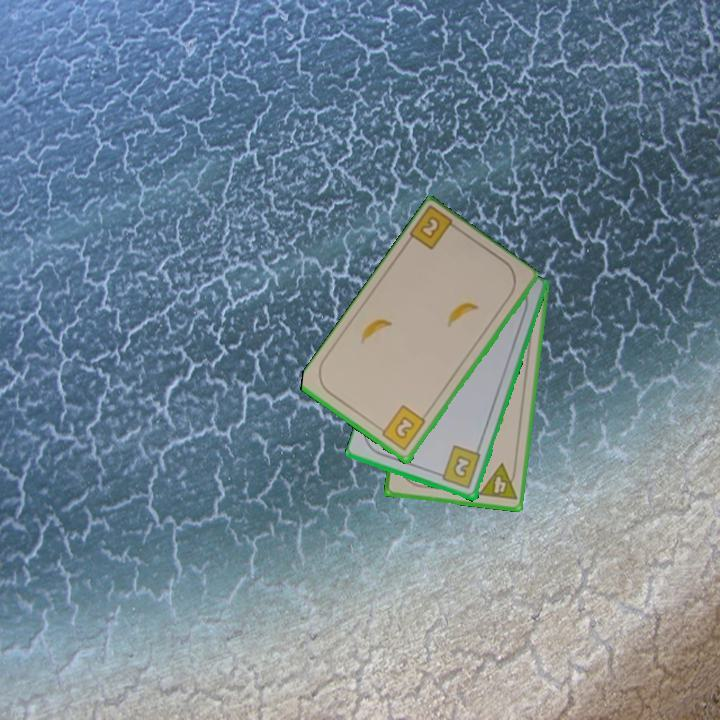2b: (374, 402, 429, 454), (406, 205, 464, 253), (433, 443, 484, 492)
4p: (475, 460, 520, 503)
